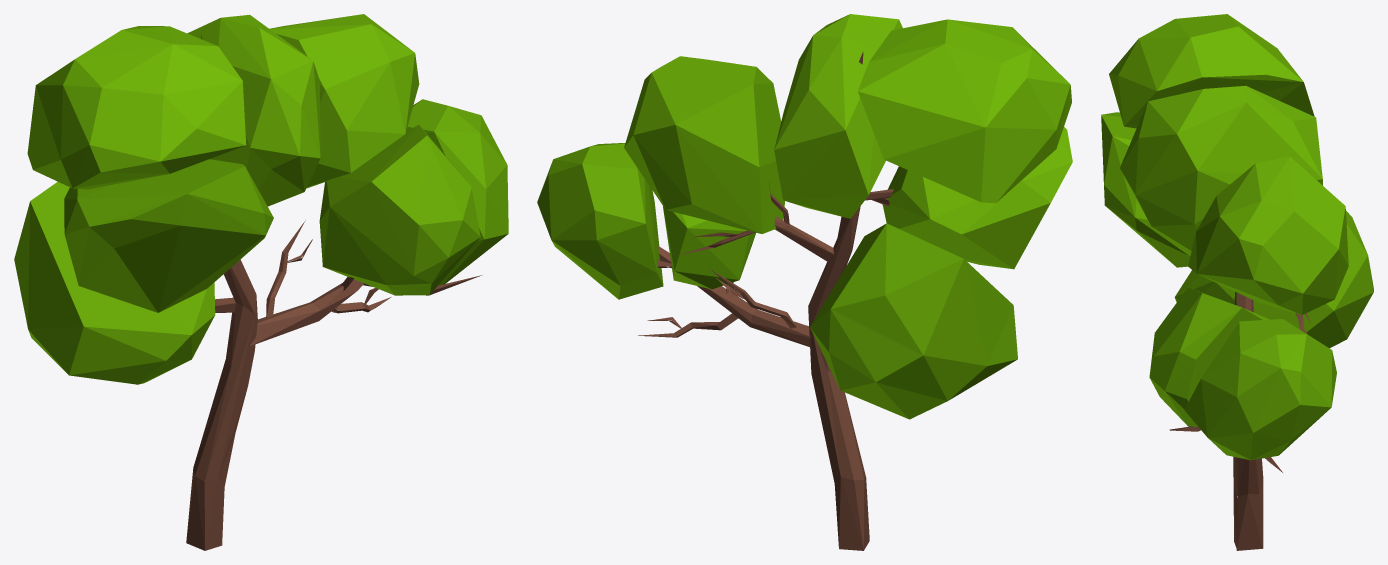
The model's file is estilizada-NormalTree_3.glb.
3 renders of one model, left to right at view 1: azimuth 30°, elevation 25°; view 2: azimuth 150°, elevation 25°; view 3: azimuth 270°, elevation 25°, orthographic. The views are drawn at different scales.
Visible parts, largest first — view 1: NormalTree_3.001; view 2: NormalTree_3.001; view 3: NormalTree_3.001.
Part boxes in pixels (x1,y1,x2,y2): NormalTree_3.001: [14, 14, 508, 550]; NormalTree_3.001: [537, 14, 1072, 550]; NormalTree_3.001: [1101, 14, 1373, 550].
Bounding box in the file's own units: 4.87 × 5.21 × 2.68.
